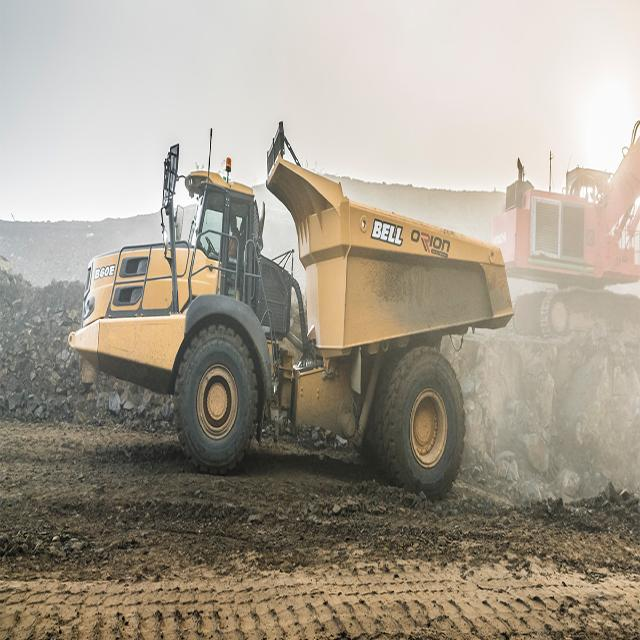dump_truck: (80, 113, 510, 530)
